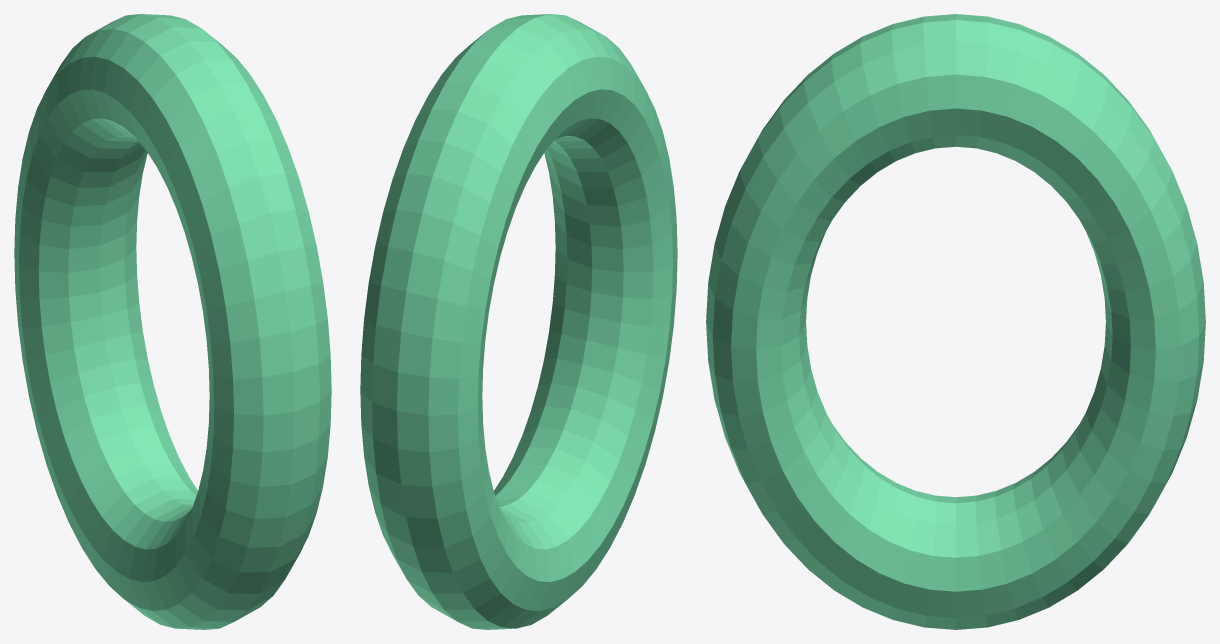
File: bracelet1.fbx
3 renders of one model, left to right at view 1: azimuth 30°, elevation 25°; view 2: azimuth 150°, elevation 25°; view 3: azimuth 270°, elevation 25°, orthographic. The views are drawn at different scales.
Visible parts, largest first — view 1: Torus; view 2: Torus; view 3: Torus.
Part boxes in pixels (box(x1,y1,x2,y2)): Torus: box(14, 14, 331, 629); Torus: box(360, 14, 677, 629); Torus: box(706, 14, 1205, 629).
Size of the model in its own units: 188 by 50 by 250.
